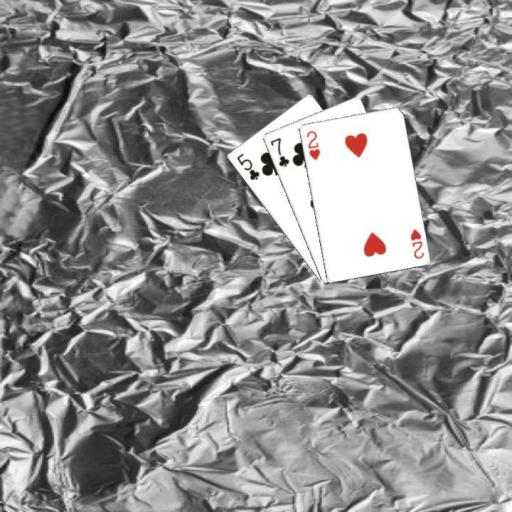2H: (407, 226, 425, 261), (303, 128, 321, 162)
5C: (233, 150, 261, 182)
7C: (267, 135, 291, 169)
